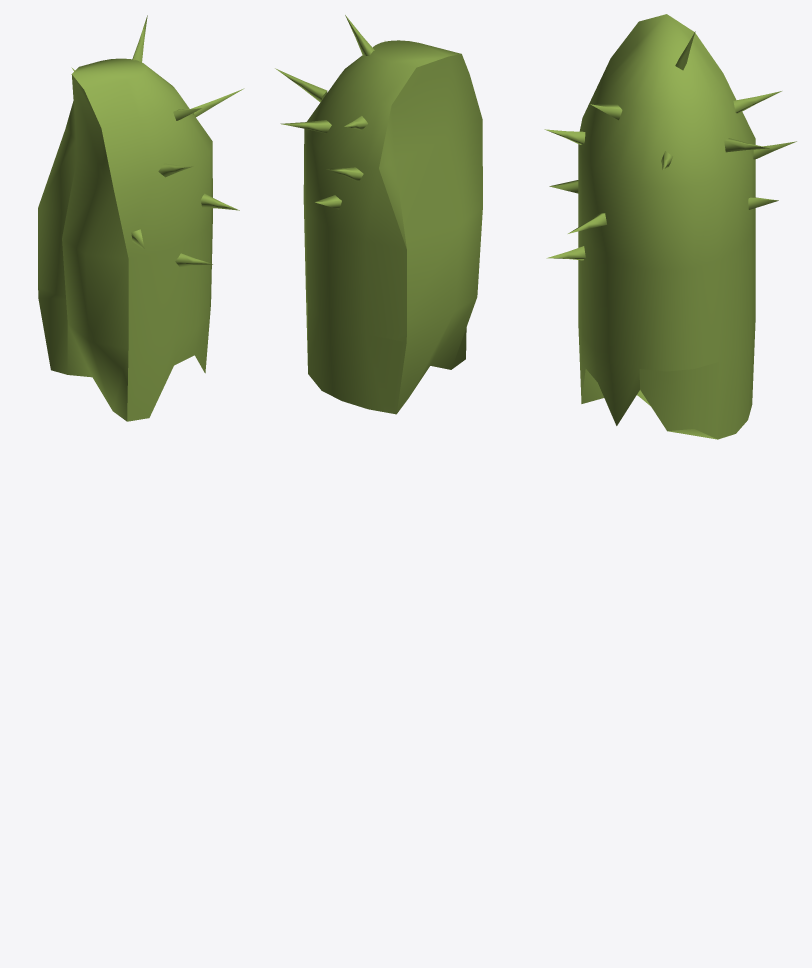
The model's file is CactusPiece_Particle.fbx.
3 renders of one model, left to right at view 1: azimuth 30°, elevation 25°; view 2: azimuth 150°, elevation 25°; view 3: azimuth 270°, elevation 25°, orthographic. The views are drawn at different scales.
Parts seen in each view (by area): view 1: CactusPiece_Particle; view 2: CactusPiece_Particle; view 3: CactusPiece_Particle.
Part boxes in pixels (left/top/right/bottom): CactusPiece_Particle: left=38, top=15, right=244, bottom=421; CactusPiece_Particle: left=275, top=15, right=482, bottom=414; CactusPiece_Particle: left=544, top=14, right=796, bottom=439.
Bounding box in the file's own units: 0.9746 × 3.56 × 0.8133.
